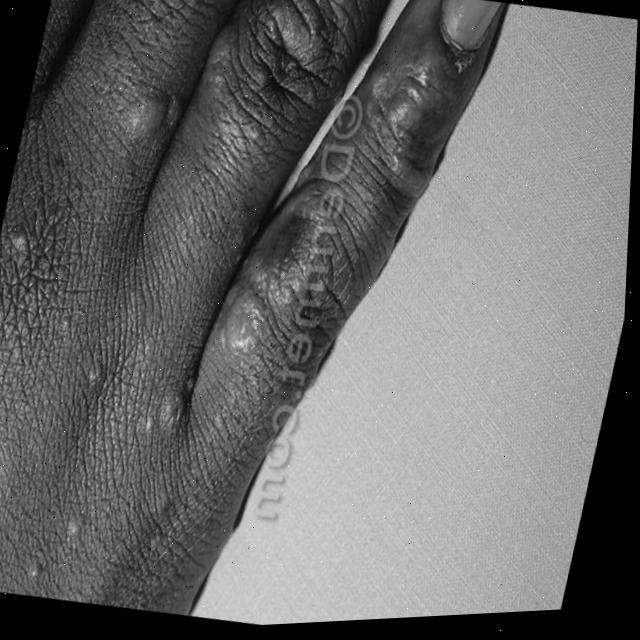Eczema: (218, 300, 282, 368), (379, 77, 440, 147), (117, 64, 179, 131), (152, 401, 182, 432)
